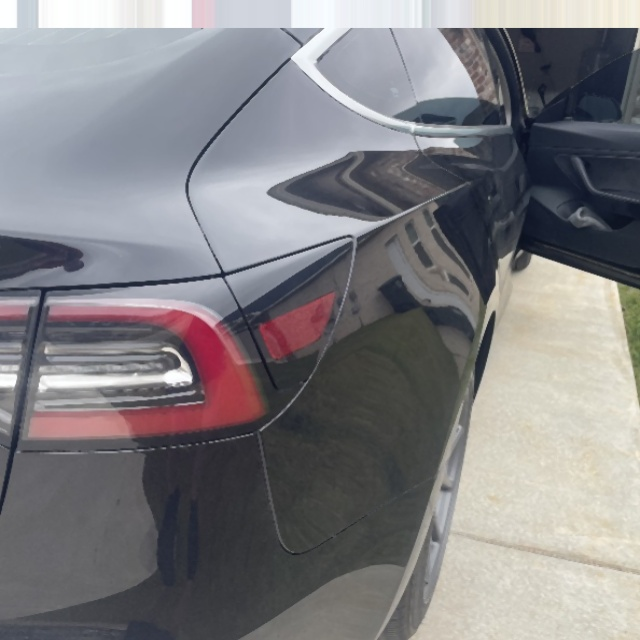reflector: (259, 288, 338, 360)
